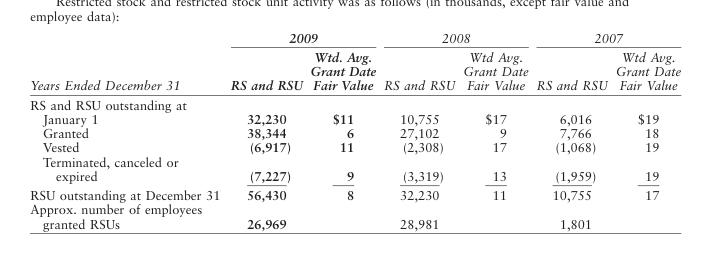table: (29, 29, 680, 230)
table column: (29, 29, 224, 230), (224, 29, 305, 230), (379, 29, 458, 230), (531, 29, 610, 230), (305, 29, 379, 230), (458, 29, 531, 230), (610, 29, 680, 230)
table column header: (29, 29, 680, 94)
table row: (29, 46, 680, 94), (29, 94, 680, 125), (29, 153, 680, 184), (29, 201, 680, 230), (29, 29, 680, 46), (29, 184, 680, 201), (29, 125, 680, 139), (29, 139, 680, 153)
table spanning cell: (29, 29, 224, 94), (224, 29, 379, 46), (379, 29, 531, 46), (531, 29, 680, 46)
